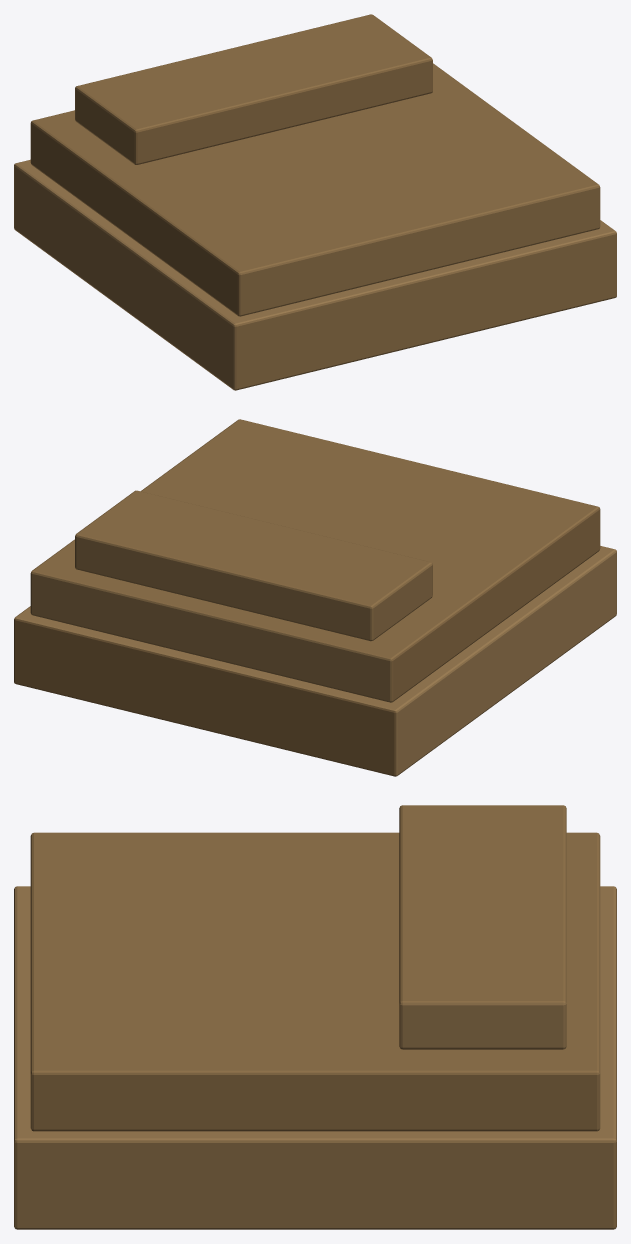
File: Frame_Bed_a.fbx
3 renders of one model, top to bottom at view 1: azimuth 30°, elevation 25°; view 2: azimuth 150°, elevation 25°; view 3: azimuth 270°, elevation 25°, orthographic. The views are drawn at different scales.
Visible parts, largest first — view 1: Frame_Bed_a; view 2: Frame_Bed_a; view 3: Frame_Bed_a.
Part boxes in pixels (x1=…): Frame_Bed_a: x1=14, y1=14, x2=616, y2=390; Frame_Bed_a: x1=14, y1=419, x2=616, y2=776; Frame_Bed_a: x1=14, y1=805, x2=616, y2=1229.
Size of what is drawn, in the model's own units: 0.9 by 0.33 by 0.9.
